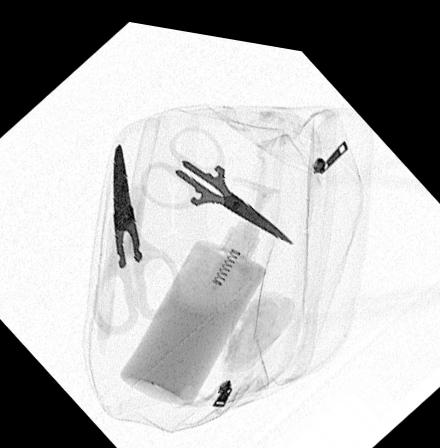Scissors: (136, 111, 299, 241), (87, 134, 186, 334)
